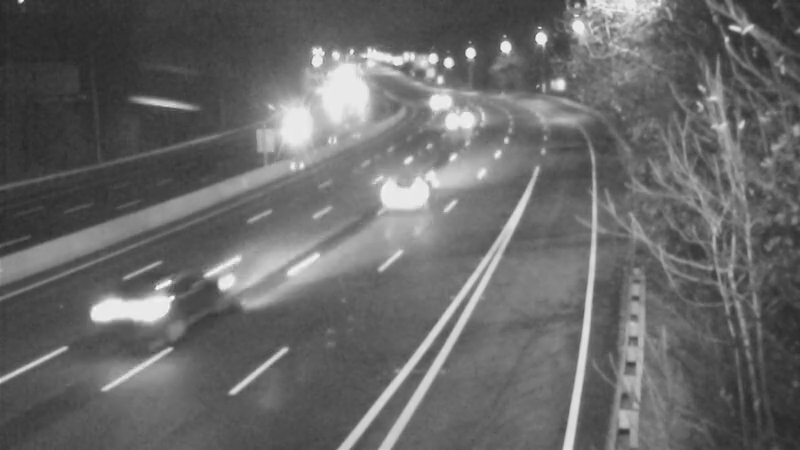vehicle: (87, 248, 197, 358), (370, 145, 450, 225), (409, 72, 459, 122), (435, 94, 485, 144), (261, 109, 311, 159)
